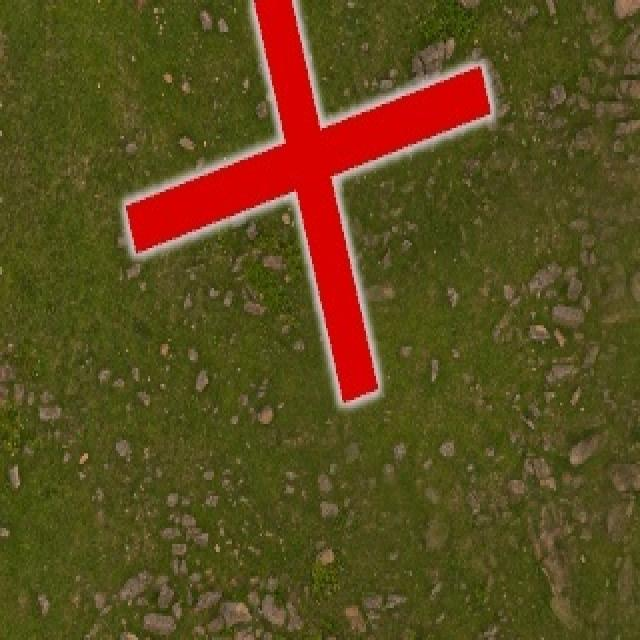x_marker: (125, 0, 491, 403)
